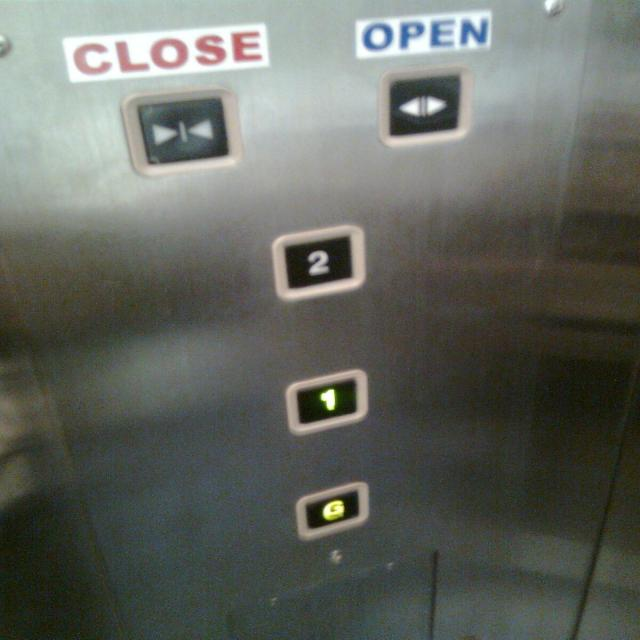1: (283, 367, 371, 436)
2: (269, 222, 368, 302)
G: (290, 480, 369, 540)
close: (120, 84, 252, 180)
open: (376, 62, 478, 150)
